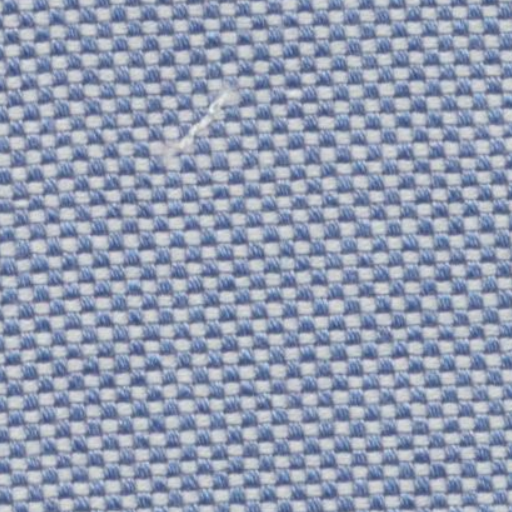DuanSha: (153, 80, 236, 166)
